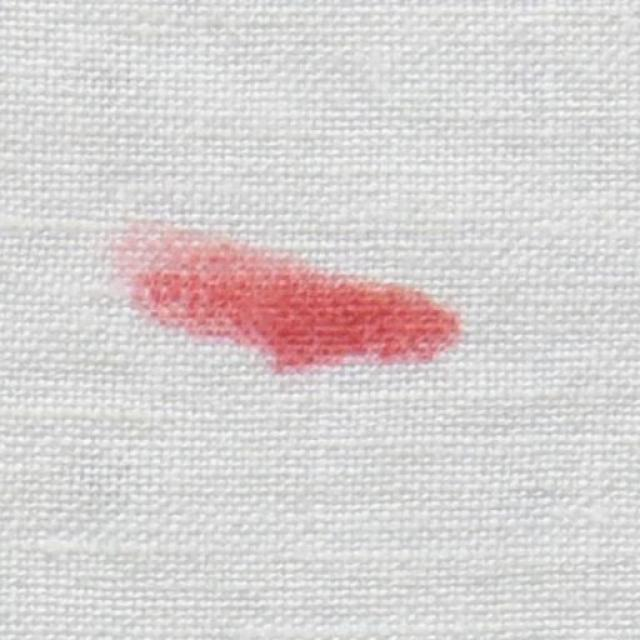Stain: (111, 221, 461, 372)
